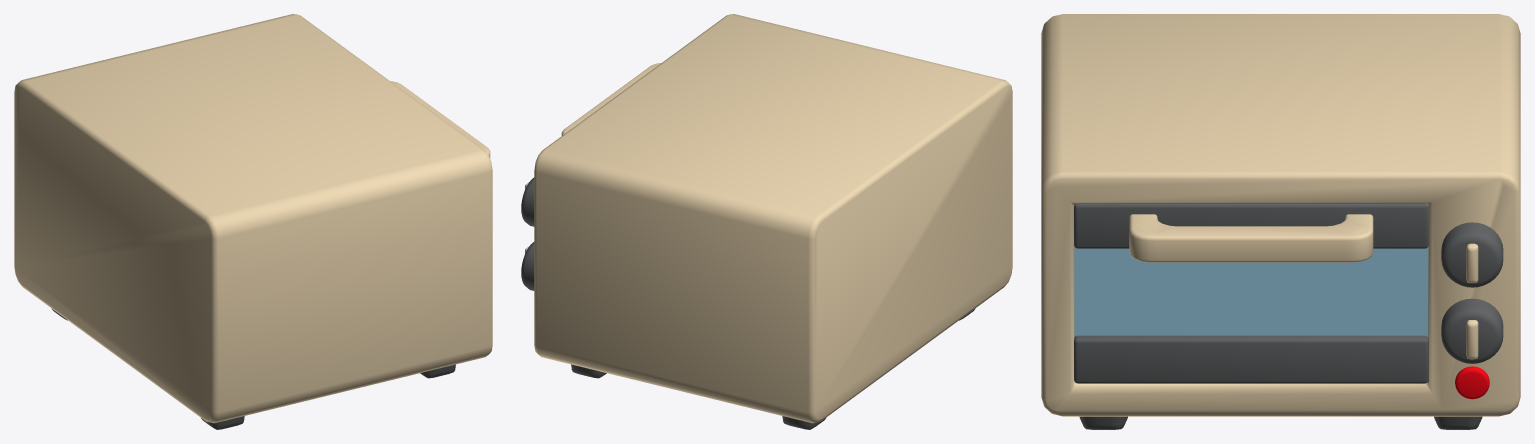
The model's file is SM_Oven.fbx.
3 views of the same model, side by side, from view 1: azimuth 30°, elevation 25°; view 2: azimuth 150°, elevation 25°; view 3: azimuth 270°, elevation 25° (orthographic). The views are drawn at different scales.
Visible parts, largest first — view 1: Oven, Oven_Door; view 2: Oven, Oven_Door; view 3: Oven, Oven_Door.
Boxes of the visible parts, x1,y1,x2,y2 form: Oven: (14,14,492,429); Oven_Door: (391,81,490,158); Oven: (521,14,1012,429); Oven_Door: (561,63,660,135); Oven: (1041,14,1520,429); Oven_Door: (1074,203,1428,383).
Bounding box in the file's own units: 171 × 116 × 187.
